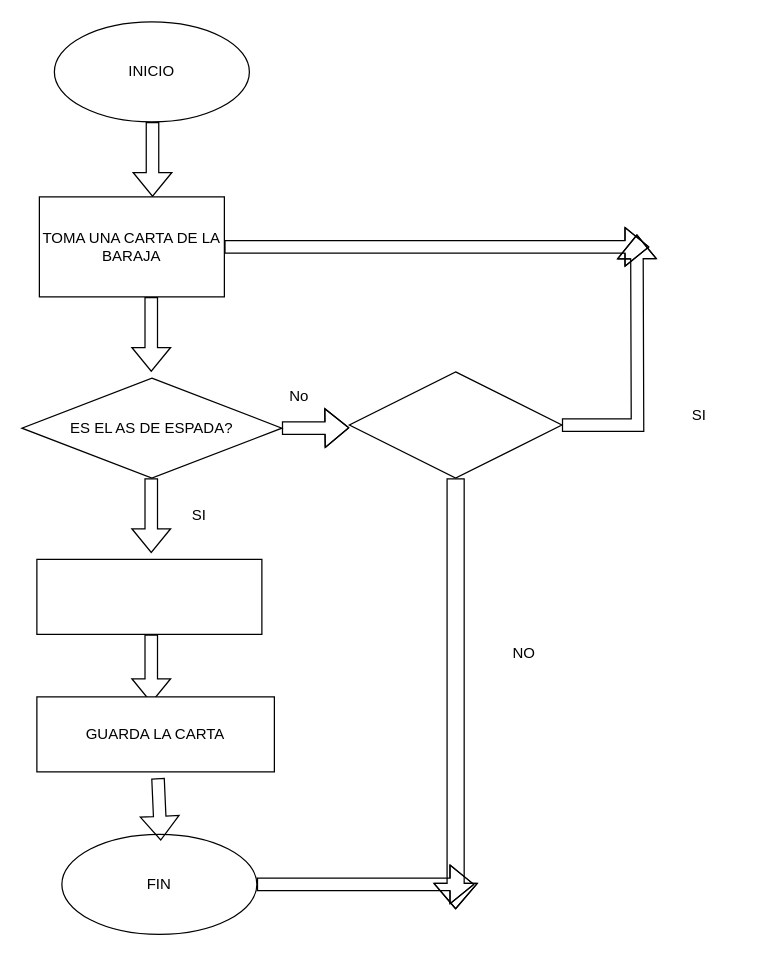
The diagram is 759 pixels wide and 956 high, and some of its shapes have lost their labels. The box of each missing label's shape, as (x1, y1, x2, y2) in pixels:
QUEDAN MAS CARTAS?: (348, 371, 562, 478)
TOMA LA CARTA: (36, 558, 262, 634)
